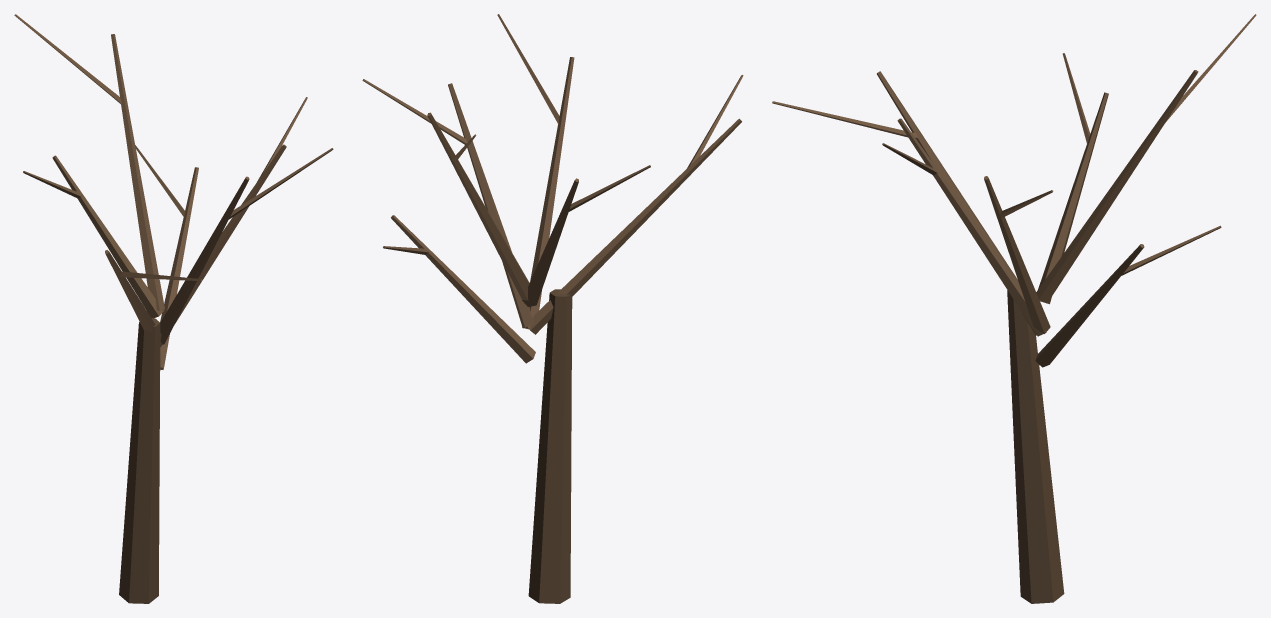
File: broad-v1-winter.glb
3 views of the same model, side by side, from view 1: azimuth 30°, elevation 25°; view 2: azimuth 150°, elevation 25°; view 3: azimuth 270°, elevation 25° (orthographic). The views are drawn at different scales.
Visible parts, largest first — view 1: broad_v1; view 2: broad_v1; view 3: broad_v1.
Part boxes in pixels (left/top/right/bottom): broad_v1: left=14, top=14, right=333, bottom=603; broad_v1: left=362, top=14, right=743, bottom=603; broad_v1: left=772, top=14, right=1256, bottom=603.
Size of what is drawn, in the model's own units: 4.24 by 7.45 by 5.75.
